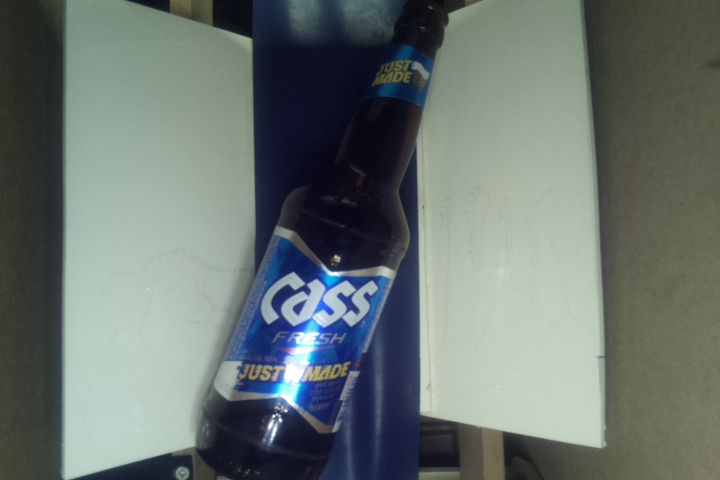makju: (200, 1, 448, 480)
